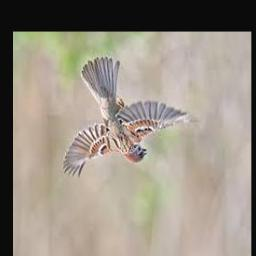Sparrow: (62, 57, 196, 179)
